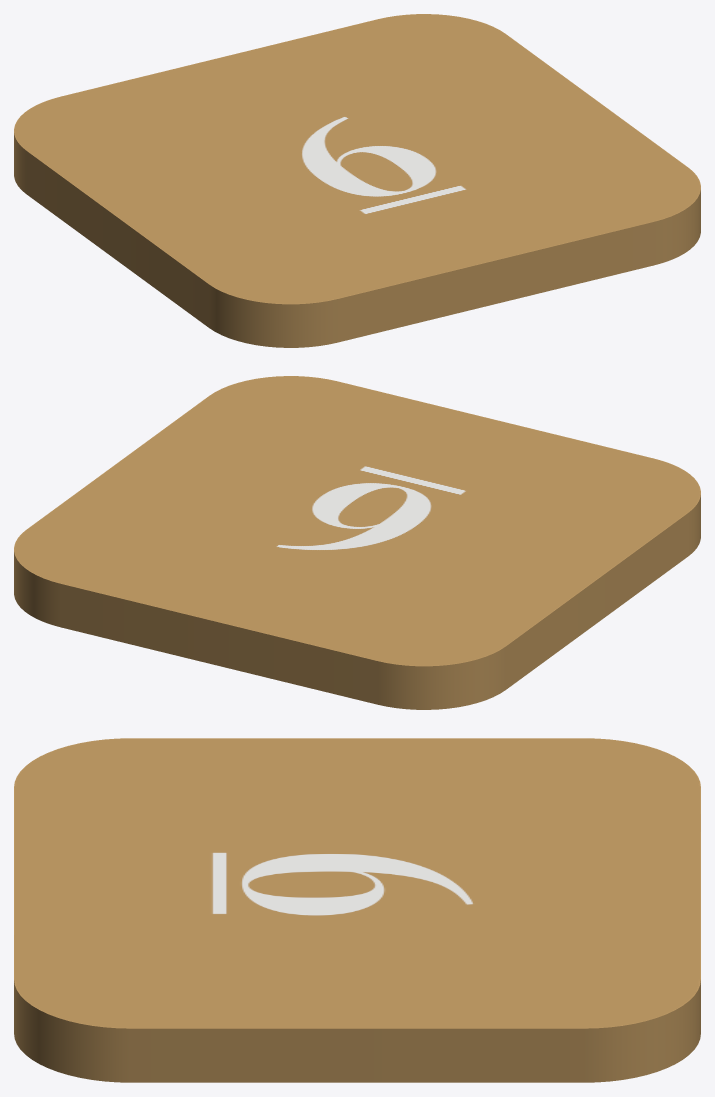
3 views of the same model, one above another, from view 1: azimuth 30°, elevation 25°; view 2: azimuth 150°, elevation 25°; view 3: azimuth 270°, elevation 25° (orthographic). The views are drawn at different scales.
Parts seen in each view (by area): view 1: sq_6; view 2: sq_6; view 3: sq_6.
Boxes of the visible parts, x1=… form: sq_6: x1=14, y1=14, x2=700, y2=347; sq_6: x1=14, y1=376, x2=700, y2=709; sq_6: x1=14, y1=738, x2=700, y2=1082.
Size of the model in its own units: 0.0276 by 0.0024 by 0.0276.
3 materials, 2 textured.
